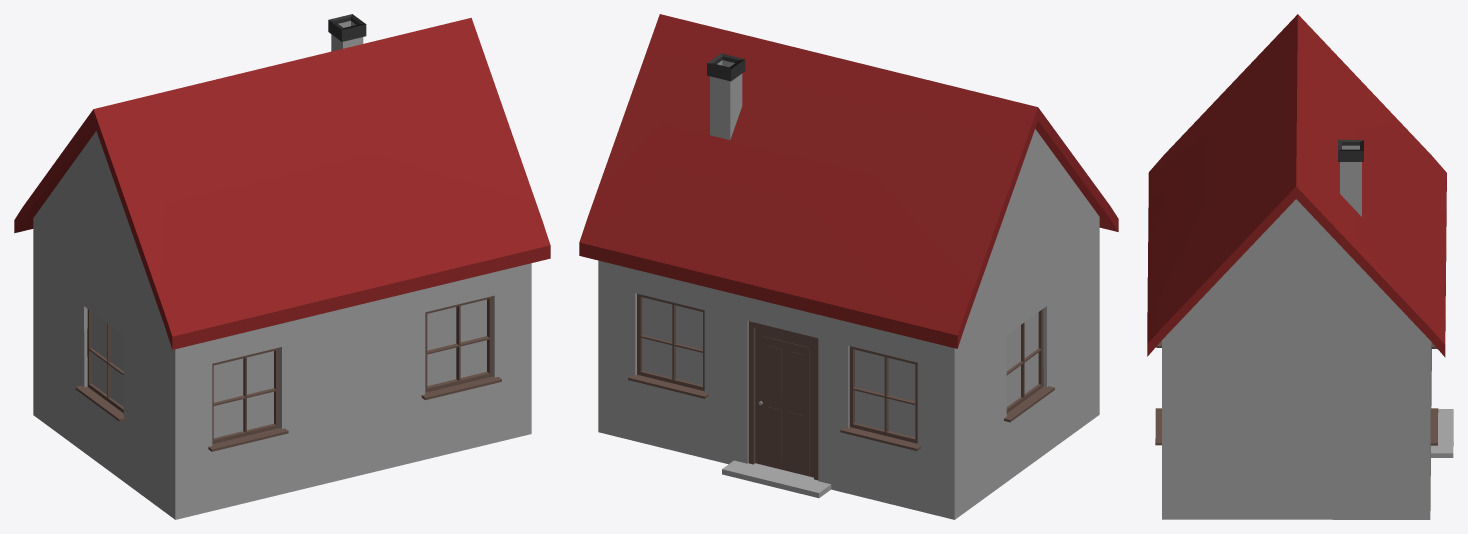
Rendered from housev2.fbx.
3 renders of one model, left to right at view 1: azimuth 30°, elevation 25°; view 2: azimuth 150°, elevation 25°; view 3: azimuth 270°, elevation 25°, orthographic. The views are drawn at different scales.
Visible parts, largest first — view 1: pPlane6; view 2: pPlane6; view 3: pPlane6.
Boxes of the visible parts, x1=… form: pPlane6: x1=14, y1=14, x2=550, y2=519; pPlane6: x1=579, y1=14, x2=1118, y2=519; pPlane6: x1=1147, y1=14, x2=1453, y2=519.
Size of the model in its own units: 106 by 97.47 by 79.12.
